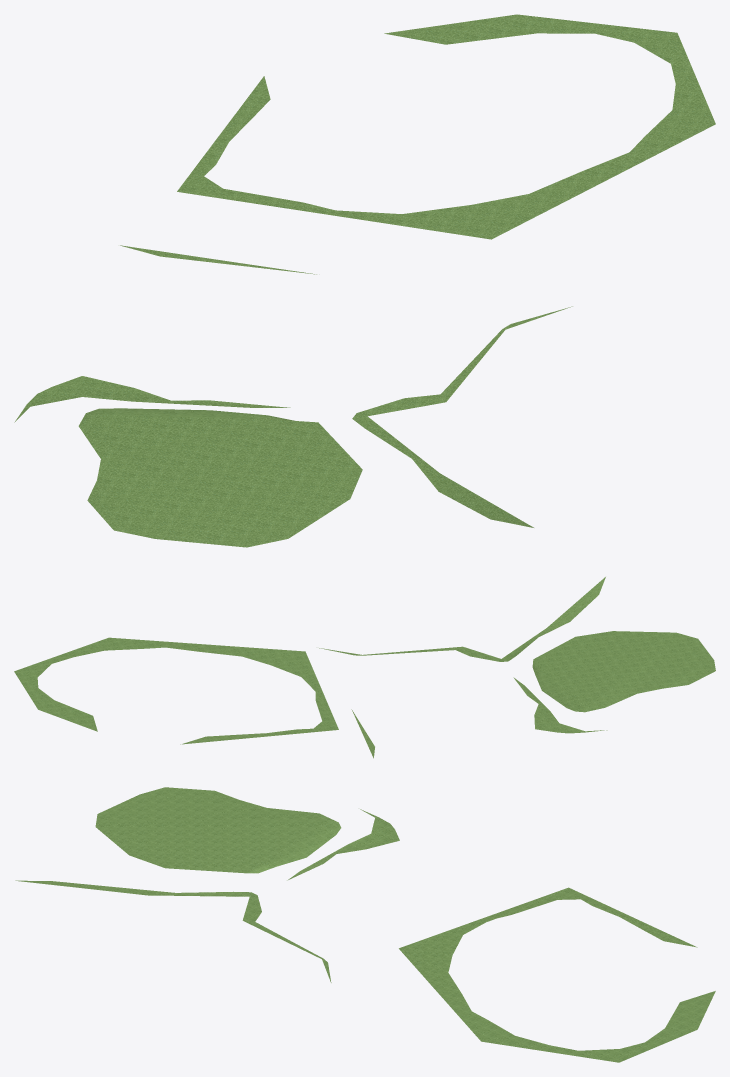
The model's file is kd_stage_135ebf_0_32_bounded.glb.
3 views of the same model, one above another, from view 1: azimuth 30°, elevation 25°; view 2: azimuth 150°, elevation 25°; view 3: azimuth 270°, elevation 25° (orthographic). The views are drawn at different scales.
Parts seen in each view (by area): view 1: kd_stage_135ebf_0_32_bounded; view 2: kd_stage_135ebf_0_32_bounded; view 3: kd_stage_135ebf_0_32_bounded.
Part boxes in pixels (x1,y1,x2,y2): kd_stage_135ebf_0_32_bounded: (14, 14, 715, 547); kd_stage_135ebf_0_32_bounded: (14, 577, 715, 758); kd_stage_135ebf_0_32_bounded: (15, 787, 715, 1062).
Size of the model in its own units: 10.58 by 0.4199 by 10.67.
Materials: 1 (1 with a texture image).
